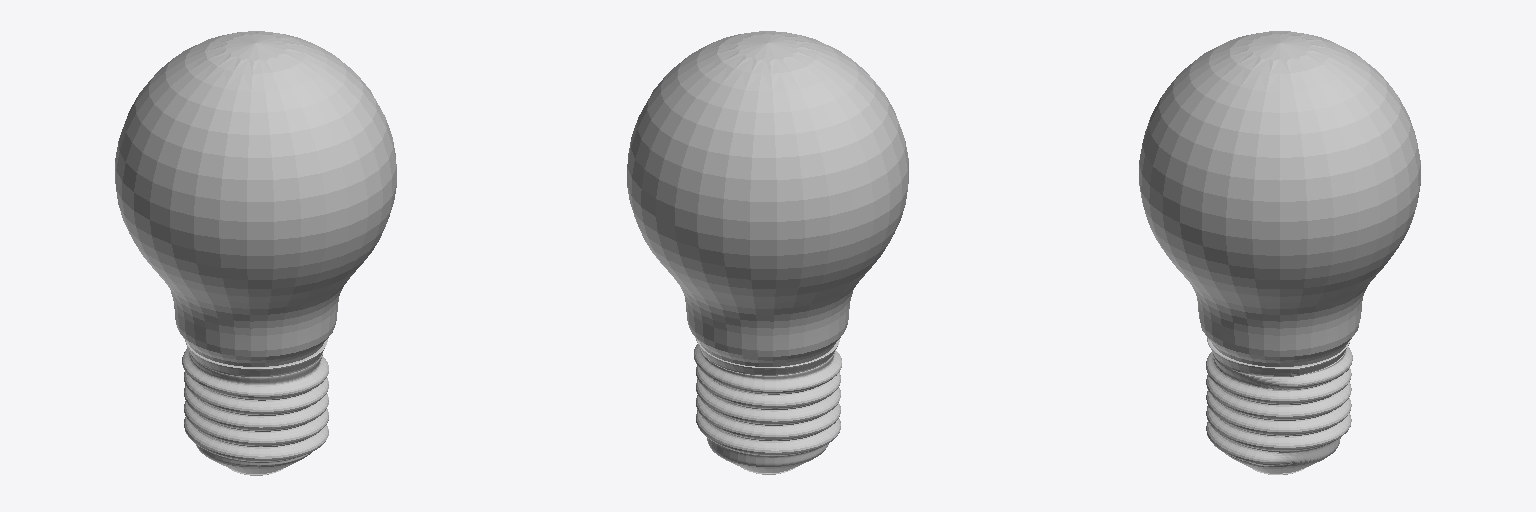
The model's file is Light.obj.
The picture shows the model from 3 angles: view 1: azimuth 30°, elevation 25°; view 2: azimuth 150°, elevation 25°; view 3: azimuth 270°, elevation 25°; orthographic projection.
Parts seen in each view (by area): view 1: Bulb_Circle; view 2: Bulb_Circle; view 3: Bulb_Circle.
Part boxes in pixels (bbox=[...]): Bulb_Circle: bbox=[115, 31, 396, 475]; Bulb_Circle: bbox=[627, 31, 908, 474]; Bulb_Circle: bbox=[1139, 31, 1420, 474].
Size of the model in its own units: 0.2205 by 0.3667 by 0.2205.